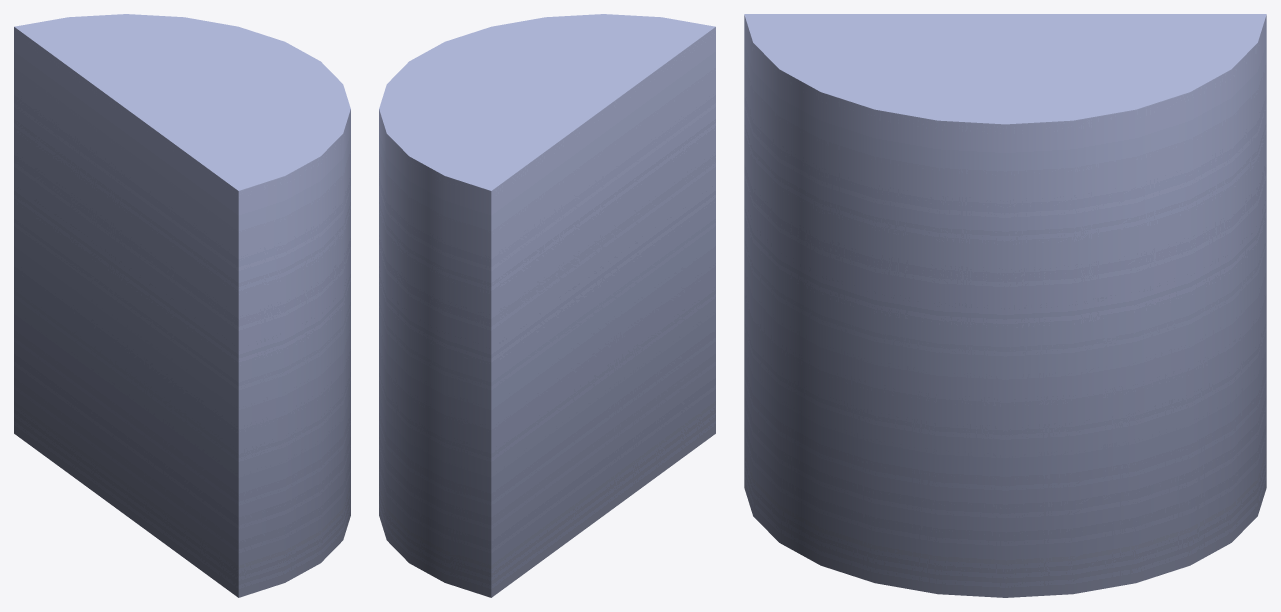
The model's file is shape-cylinder-half-detailed.glb.
The picture shows the model from 3 angles, left to right: view 1: azimuth 30°, elevation 25°; view 2: azimuth 150°, elevation 25°; view 3: azimuth 270°, elevation 25°; orthographic projection. The views are drawn at different scales.
Parts seen in each view (by area): view 1: shape-cylinder-half-detailed; view 2: shape-cylinder-half-detailed; view 3: shape-cylinder-half-detailed.
Boxes of the visible parts, x1,y1,x2,y2 form: shape-cylinder-half-detailed: [14, 14, 350, 597]; shape-cylinder-half-detailed: [379, 14, 715, 597]; shape-cylinder-half-detailed: [744, 14, 1266, 597].
Size of the model in its own units: 0.5 by 1 by 1.
Materials: 1 (1 with a texture image).
